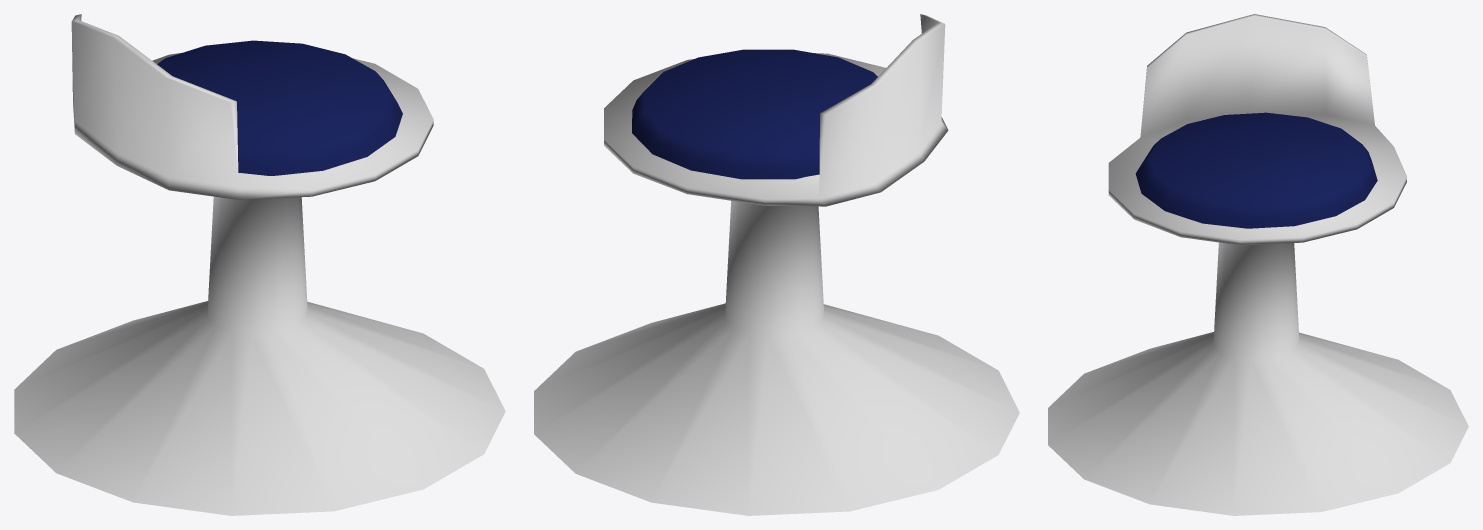
Rendered from silla escritorio(1).fbx.
The picture shows the model from 3 angles, left to right: view 1: azimuth 30°, elevation 25°; view 2: azimuth 150°, elevation 25°; view 3: azimuth 270°, elevation 25°; orthographic projection. The views are drawn at different scales.
Visible parts, largest first — view 1: Cylinder.001; view 2: Cylinder.001; view 3: Cylinder.001.
Boxes of the visible parts, bbox=[...] form: Cylinder.001: bbox=[14, 14, 505, 515]; Cylinder.001: bbox=[534, 14, 1019, 515]; Cylinder.001: bbox=[1048, 14, 1468, 515].
Bounding box in the file's own units: 33.57 × 30.77 × 33.38.
